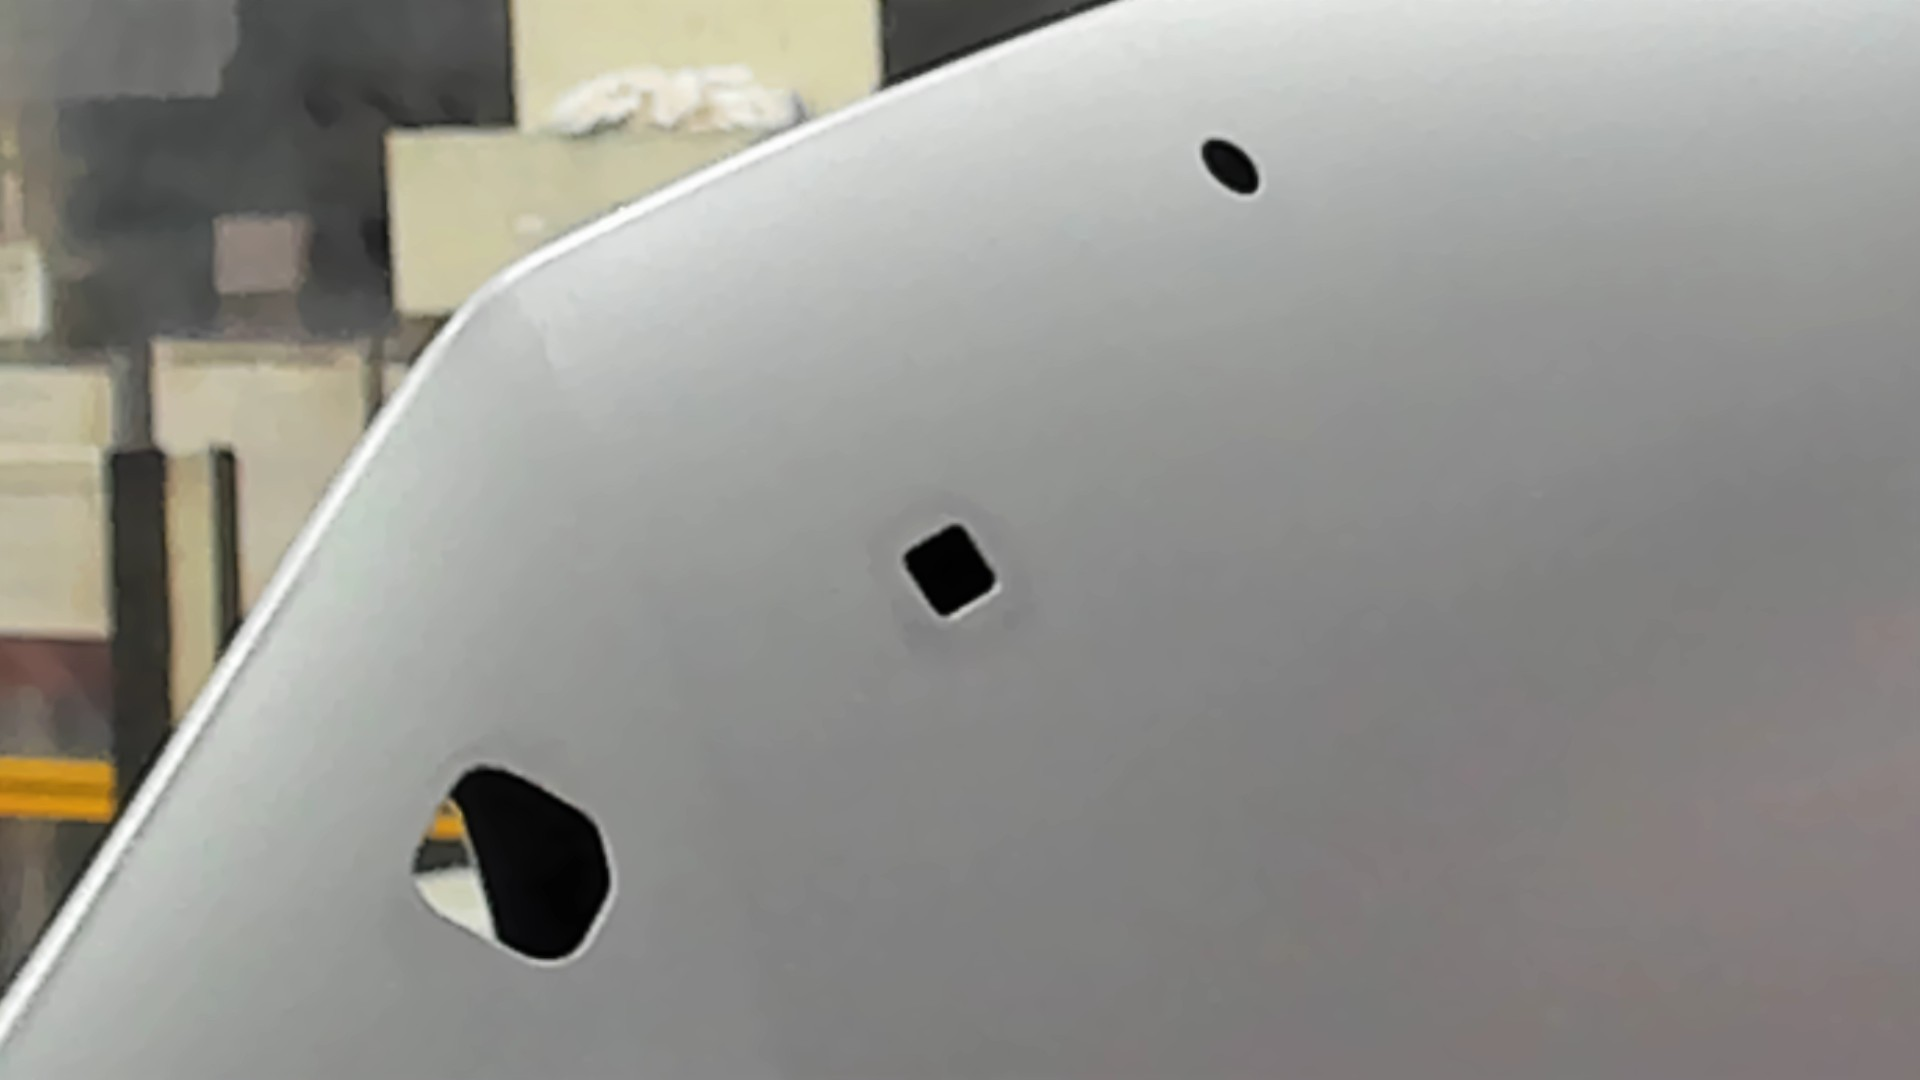capo: (1007, 200, 1920, 1080)
chico: (1196, 136, 1269, 200)
grande: (407, 758, 618, 973)
mediano: (897, 517, 1007, 626)
